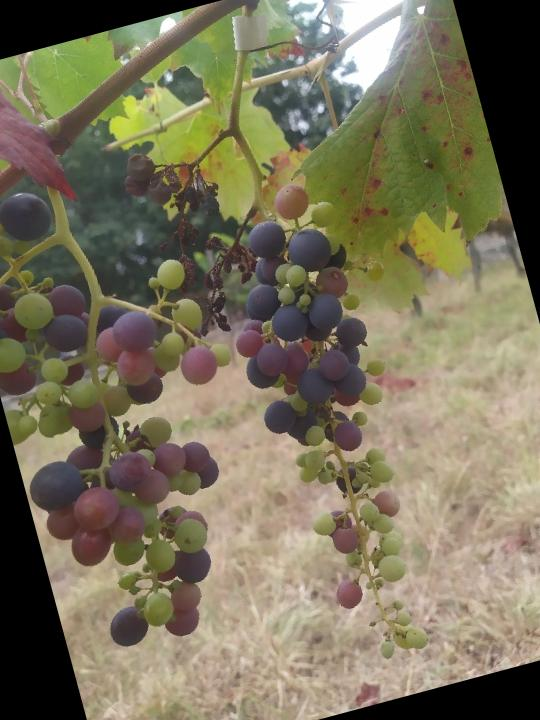grape: (0, 148, 301, 669), (201, 168, 479, 676), (116, 131, 273, 351)
